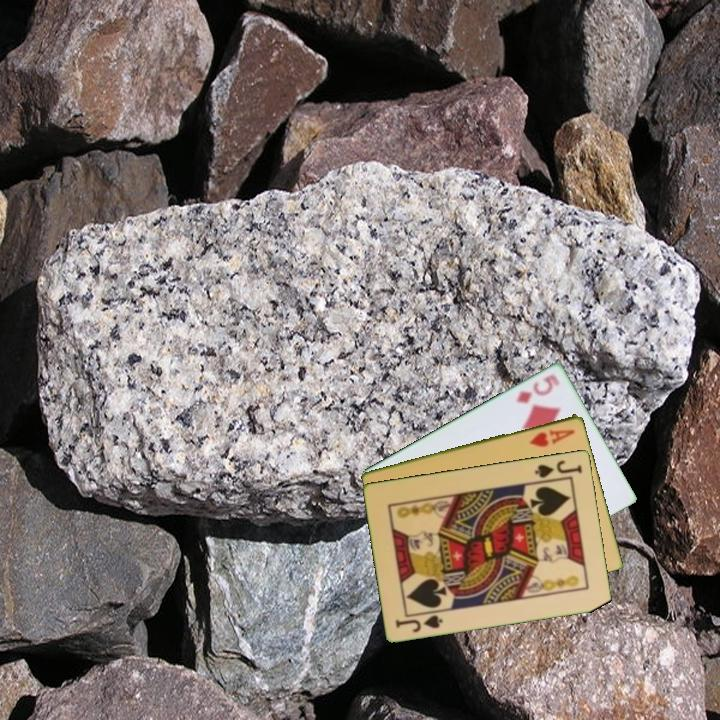5d: (512, 370, 563, 406)
Ah: (526, 425, 578, 450)
Js: (531, 456, 585, 481), (392, 611, 446, 635)
